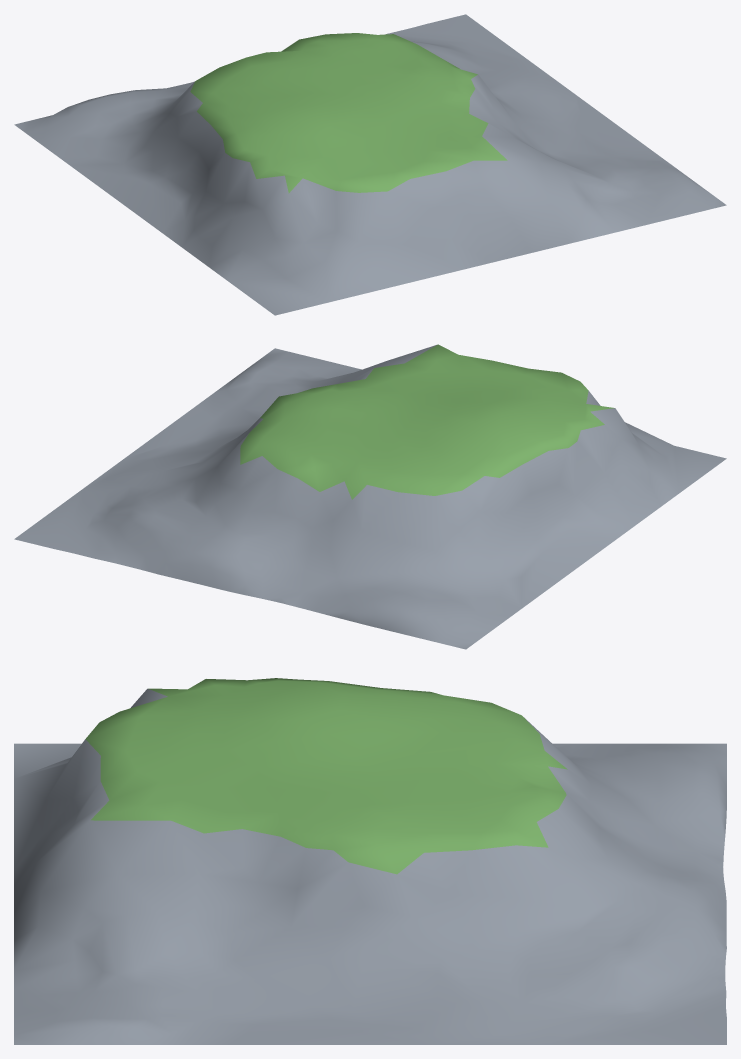
Rendered from SM_Cliffs_01.obj.
3 views of the same model, one above another, from view 1: azimuth 30°, elevation 25°; view 2: azimuth 150°, elevation 25°; view 3: azimuth 270°, elevation 25° (orthographic). The views are drawn at different scales.
Parts seen in each view (by area): view 1: SM_Cliffs_01; view 2: SM_Cliffs_01; view 3: SM_Cliffs_01.
Boxes of the visible parts, <box> form: SM_Cliffs_01: <box>14,14,726,315</box>; SM_Cliffs_01: <box>14,344,726,649</box>; SM_Cliffs_01: <box>14,678,726,1044</box>.
Size of the model in its own units: 10.89 by 2.06 by 10.89.
1 material, 1 textured.
